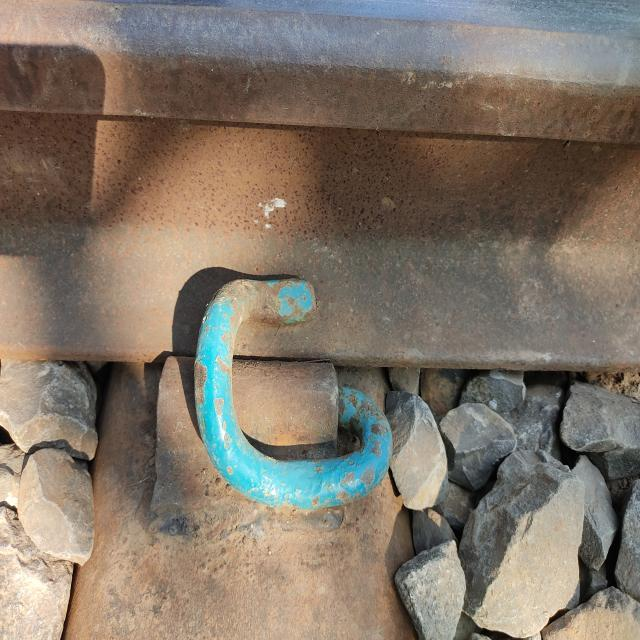Good Fasteners: (128, 269, 402, 549)
